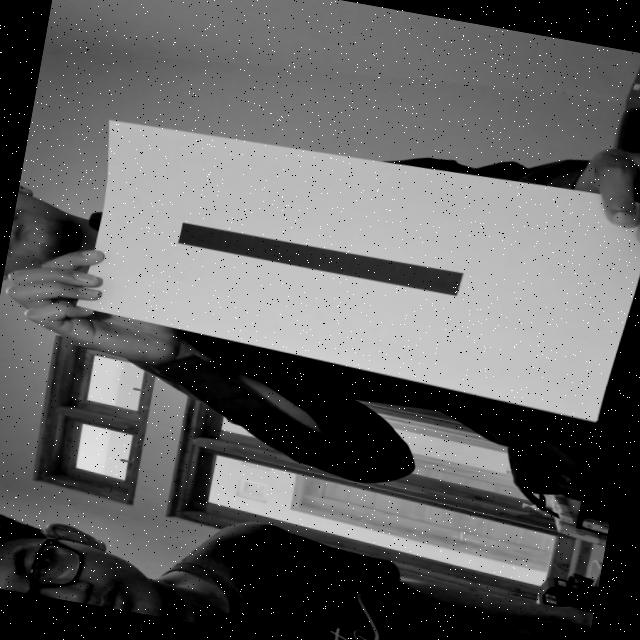i: (146, 196, 494, 316)
